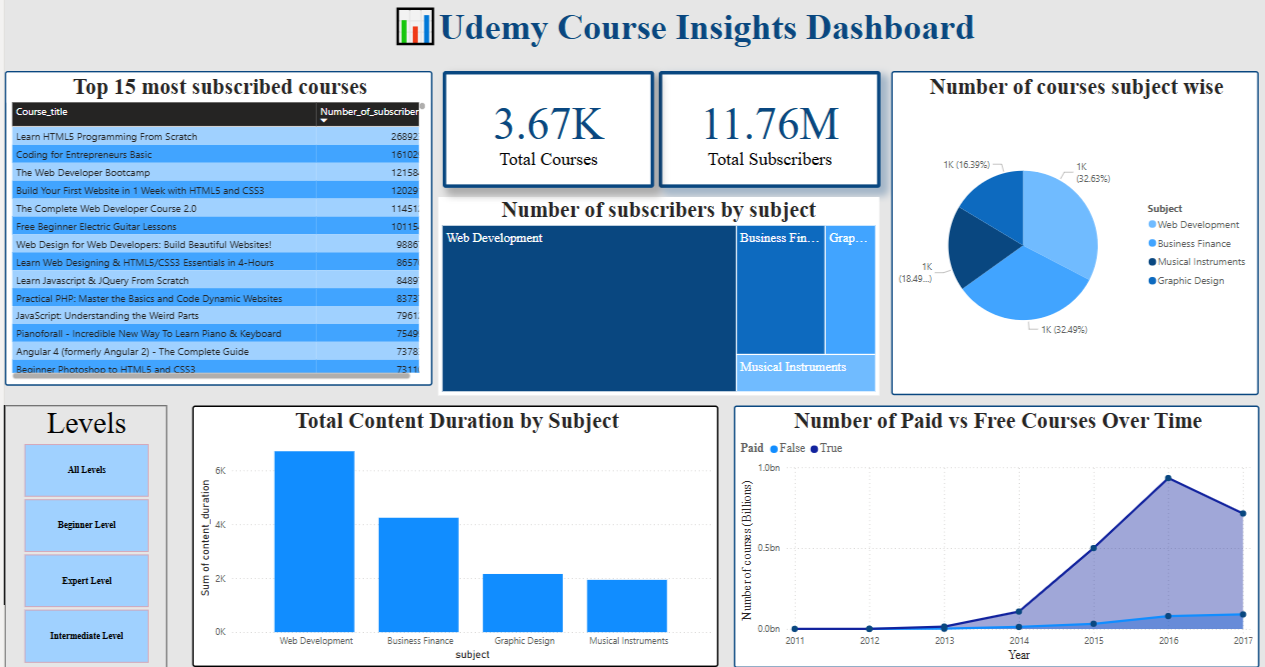

This screenshot's page, from the dashboard's own definition file:
{"tool":"powerbi","page":{"name":"Page 1","canvas":[1700,900],"ordinal":0},"visuals":[{"type":"lineChart","title":"Number of Paid vs Free Courses Over Time","fields":{"Category":["udemy_online_education_courses_dataset.published_timestamp.Variation.Date Hierarchy.Year"],"Series":["udemy_online_education_courses_dataset.is_paid"],"Y":["Sum(udemy_online_education_courses_dataset.course_id)"]},"box":[978.3,548.7,704.5,351.7],"z":0},{"type":"card","fields":{"Values":["udemy_online_education_courses_dataset.Total Subscribers"]},"box":[876.8,100.6,297.6,156.9],"z":1000},{"type":"pieChart","title":"Number of courses subject wise","fields":{"Y":["udemy_online_education_courses_dataset.Count of Course Title"],"Category":["udemy_online_education_courses_dataset.subject"]},"box":[1188.5,100.6,492.7,434.4],"z":3000},{"type":"slicer","title":"Levels","fields":{"Values":["udemy_online_education_courses_dataset.level"]},"box":[0,548.7,217.7,352.8],"z":4000},{"type":"treemap","title":"Number of subscribers by subject","fields":{"Group":["udemy_online_education_courses_dataset.subject"],"Values":["Sum(udemy_online_education_courses_dataset.num_subscribers)"]},"box":[581.9,270.4,591.1,265.8],"z":5000},{"type":"textbox","box":[356,0,1108.1,82.5],"z":7000},{"type":"columnChart","title":"Total Content Duration by Subject","fields":{"Category":["udemy_online_education_courses_dataset.subject"],"Y":["Sum(udemy_online_education_courses_dataset.content_duration)"]},"box":[250.9,549.9,705.7,350.5],"z":8000},{"type":"tableEx","title":"Top 15 most subscribed courses","fields":{"Values":["udemy_online_education_courses_dataset.course_title","Sum(udemy_online_education_courses_dataset.num_subscribers)"]},"box":[0,100.6,573.2,422.3],"z":9000},{"type":"card","fields":{"Values":["udemy_online_education_courses_dataset.Total_Courses"]},"box":[587.2,100.6,283.6,156.9],"z":9001}]}

Visuals, with their boxes in screenshot pixels (x1, y1, x2, y2), scaled from the page's 1700x900 canvas onto the 1265x667 screenshot:
"Number of Paid vs Free Courses Over Time" lineChart: [x1=728, y1=407, x2=1252, y2=666]
card - udemy_online_education_courses_dataset.Total Subscribers: [x1=652, y1=75, x2=874, y2=191]
"Number of courses subject wise" pieChart: [x1=884, y1=75, x2=1251, y2=396]
"Levels" slicer: [x1=0, y1=407, x2=162, y2=666]
"Number of subscribers by subject" treemap: [x1=433, y1=200, x2=873, y2=397]
textbox: [x1=265, y1=0, x2=1089, y2=61]
"Total Content Duration by Subject" columnChart: [x1=187, y1=408, x2=712, y2=666]
"Top 15 most subscribed courses" tableEx: [x1=0, y1=75, x2=427, y2=388]
card - udemy_online_education_courses_dataset.Total_Courses: [x1=437, y1=75, x2=648, y2=191]
